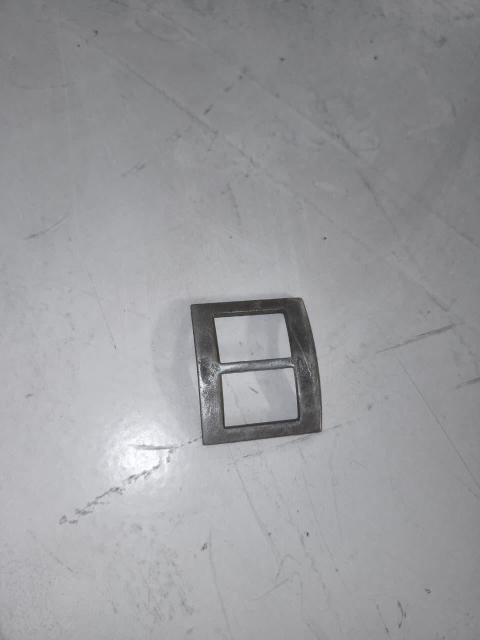Metal: (195, 283, 325, 450)
